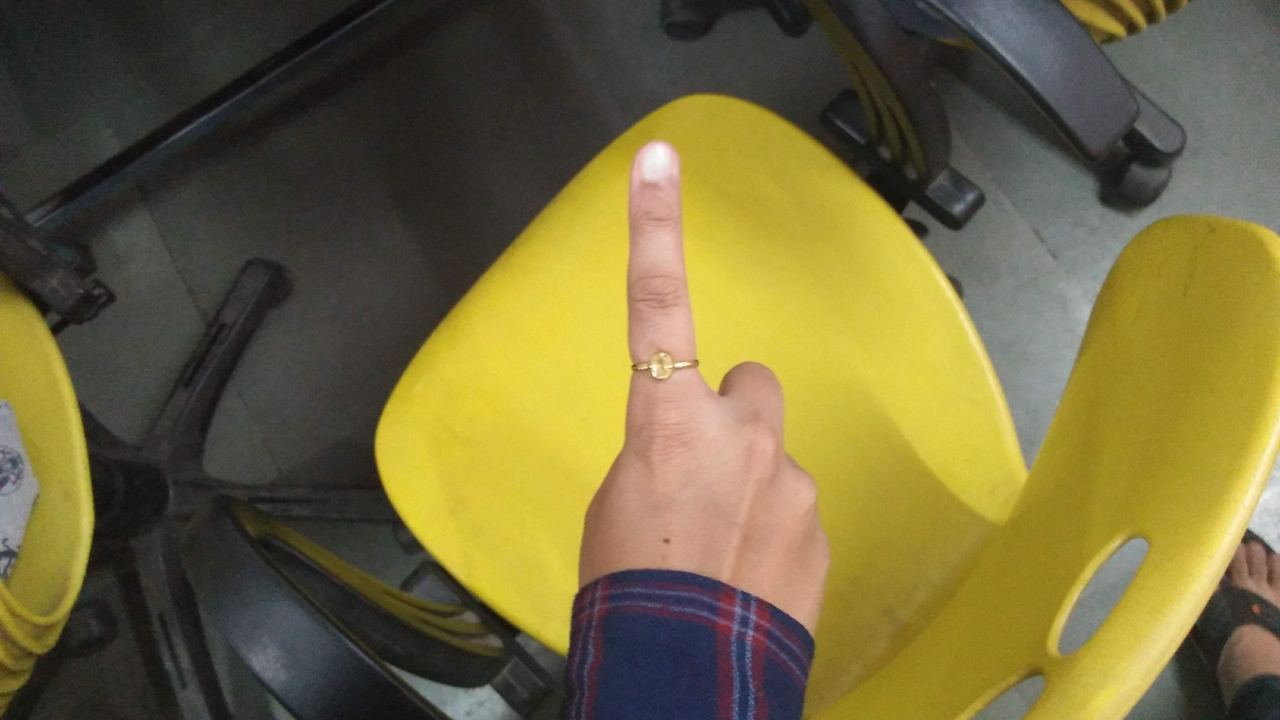fingertip: (626, 132, 684, 194)
